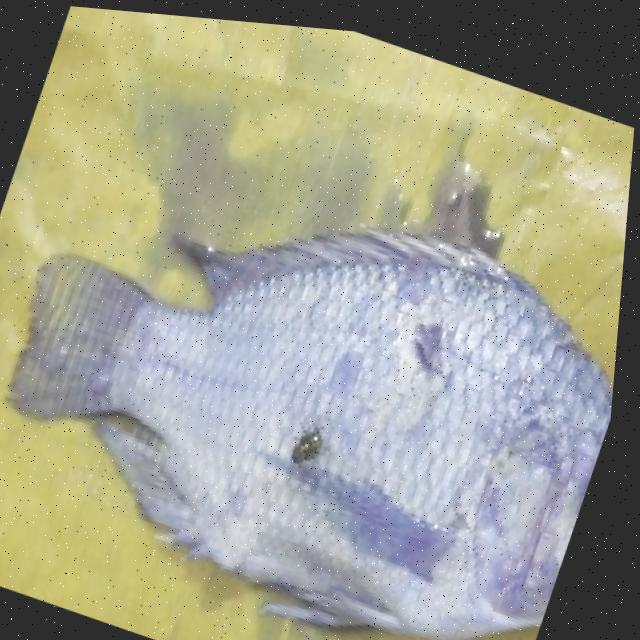Non-Fresh: (139, 200, 628, 640), (570, 433, 606, 515)
